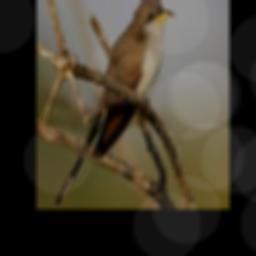Cuckoo: (56, 0, 174, 204)
